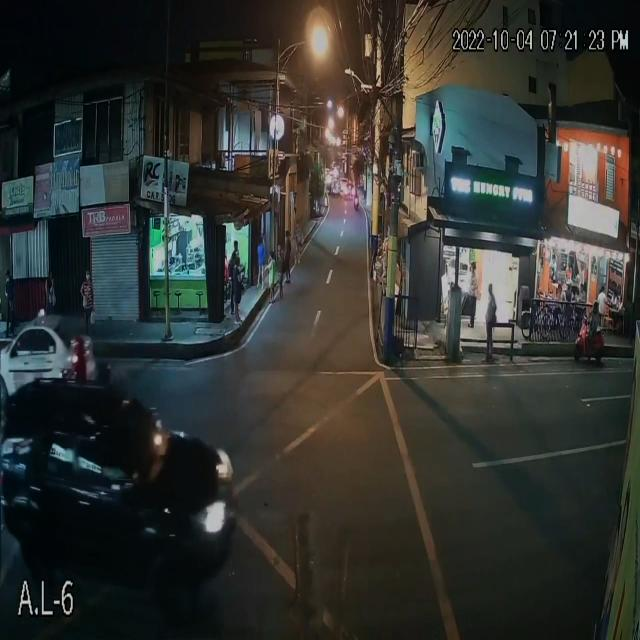Full-Faced: (67, 333, 87, 359)
